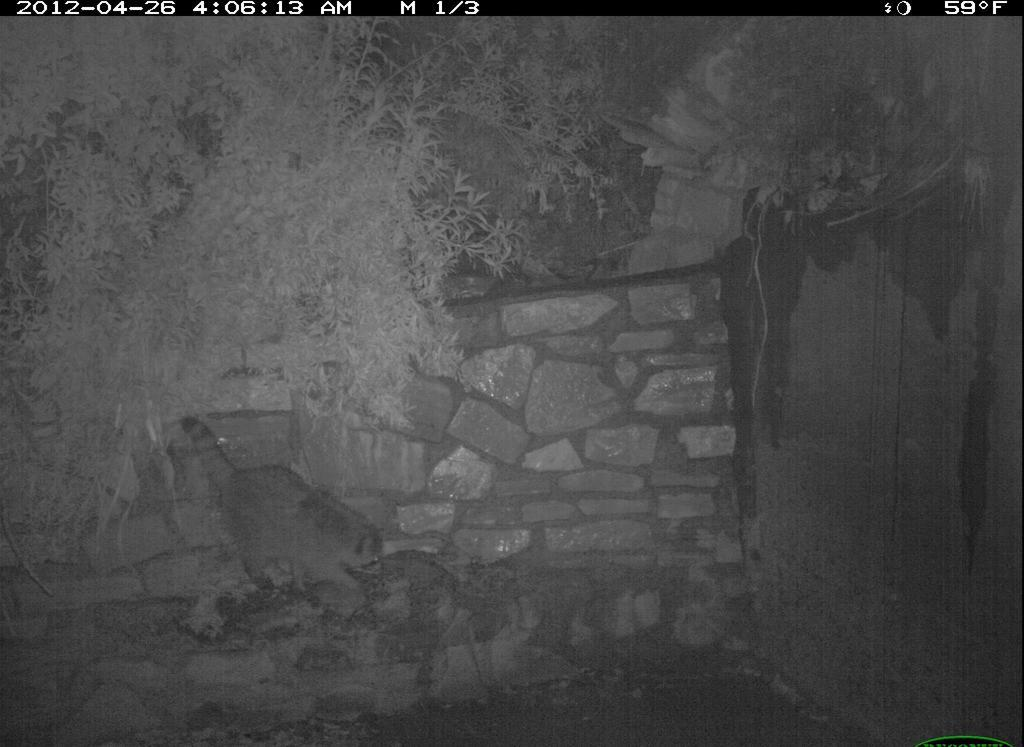raccoon: (175, 409, 391, 605)
